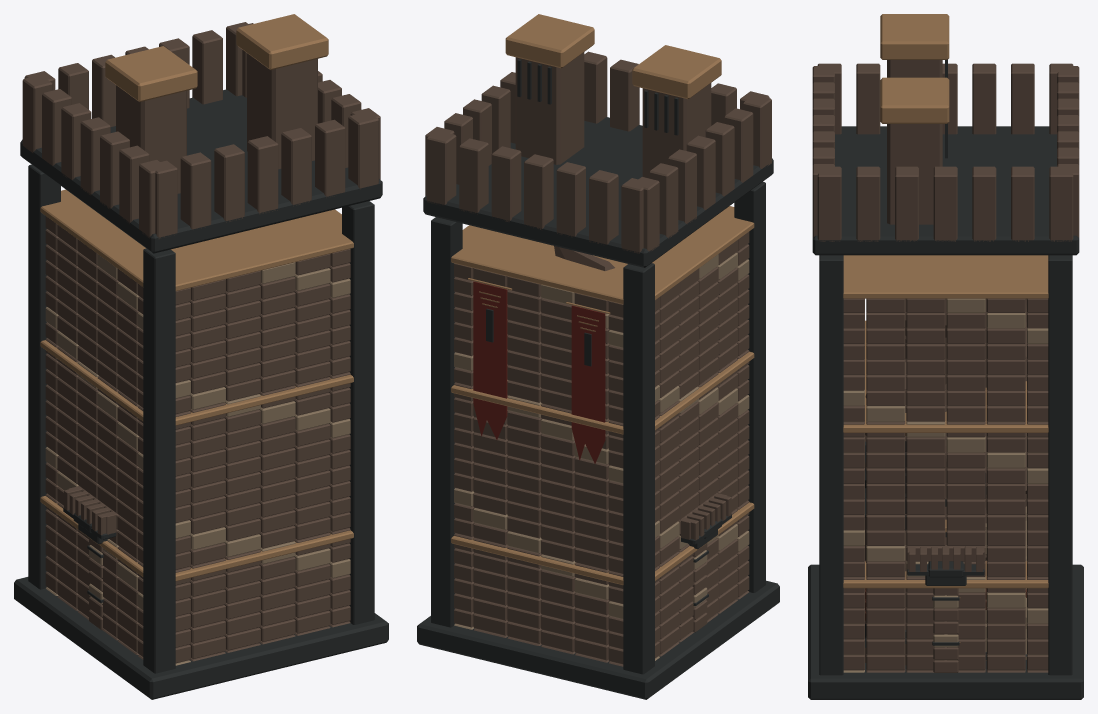
Rendered from blood_iron.glb.
The picture shows the model from 3 angles, left to right: view 1: azimuth 30°, elevation 25°; view 2: azimuth 150°, elevation 25°; view 3: azimuth 270°, elevation 25°; orthographic projection. The views are drawn at different scales.
Visible parts, largest first — view 1: Watchtower_stone, Watchtower_dark, Watchtower_metal, Watchtower_pale, Gate_stone, Gate_dark; view 2: Watchtower_stone, Watchtower_dark, Watchtower_metal, Watchtower_accent, Watchtower_pale, Gate_stone, Rock_stone, Gate_dark; view 3: Watchtower_stone, Watchtower_dark, Watchtower_metal, Watchtower_pale, Gate_stone, Rock_stone, Gate_dark, Gate_pale.
Boxes of the visible parts, box(x1,y1,x2,y2) form: Watchtower_stone: box(22, 22, 380, 663); Watchtower_dark: box(14, 89, 388, 699); Watchtower_metal: box(40, 14, 353, 581); Watchtower_pale: box(45, 254, 350, 665); Gate_stone: box(64, 486, 117, 630); Gate_dark: box(63, 508, 116, 602); Watchtower_stone: box(425, 51, 771, 666); Watchtower_dark: box(417, 59, 779, 699); Watchtower_metal: box(451, 14, 754, 584); Watchtower_accent: box(473, 281, 605, 463); Watchtower_pale: box(454, 252, 749, 660); Gate_stone: box(679, 493, 731, 632); Rock_stone: box(554, 246, 614, 270); Gate_dark: box(681, 514, 731, 605); Watchtower_stone: box(812, 60, 1079, 672); Watchtower_dark: box(808, 60, 1083, 699); Watchtower_metal: box(843, 14, 1048, 588); Watchtower_pale: box(843, 298, 1048, 672); Gate_stone: box(907, 545, 984, 672); Rock_stone: box(865, 298, 1026, 665); Gate_dark: box(907, 532, 984, 645); Gate_pale: box(933, 595, 958, 646).
Bounding box in the file's own units: 12 × 28.6 × 12.
